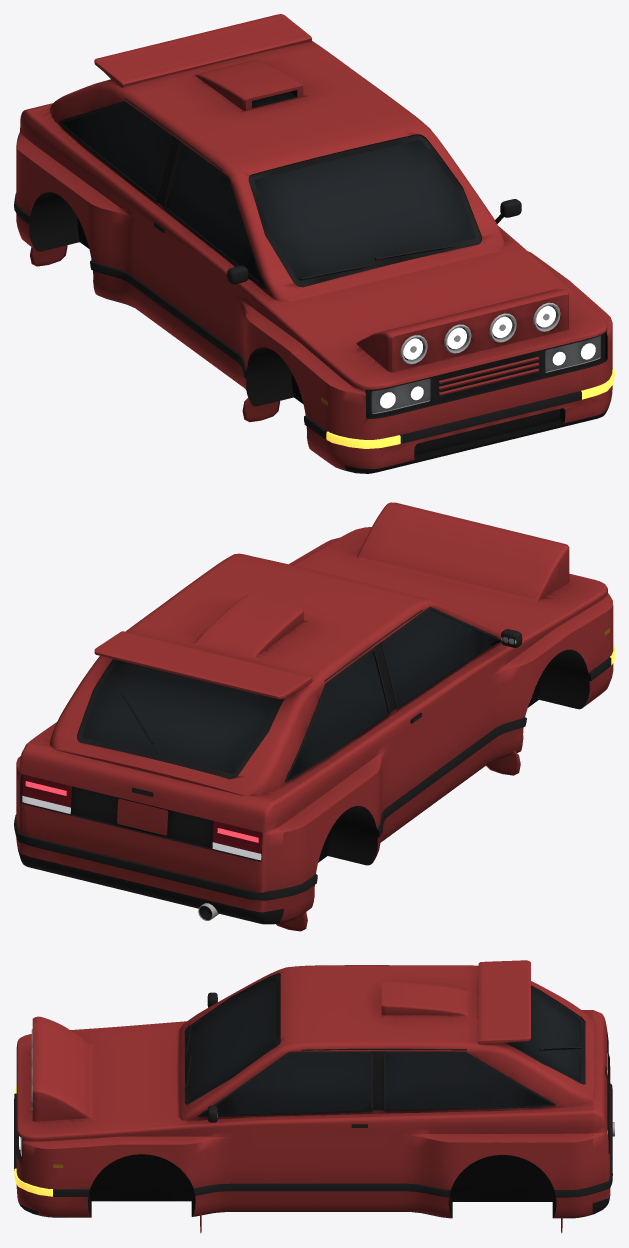
Rendered from sidewinder.m.glb.
3 renders of one model, top to bottom at view 1: azimuth 30°, elevation 25°; view 2: azimuth 150°, elevation 25°; view 3: azimuth 270°, elevation 25°, orthographic. The views are drawn at different scales.
Parts seen in each view (by area): view 1: paint_lodm, window_lodm, trim_lodm, head_lodm, lens_lodm, grille_lodm, chrome_lodm, amber_lodm; view 2: paint_lodm, window_lodm, trim_lodm, tail_lodm, reverse_lodm; view 3: paint_lodm, window_lodm, trim_lodm.
Boxes of the visible parts, left/top/right/bottom form: paint_lodm: left=16, top=14, right=612, bottom=470; window_lodm: left=63, top=104, right=481, bottom=284; trim_lodm: left=14, top=90, right=609, bottom=473; head_lodm: left=371, top=305, right=600, bottom=413; lens_lodm: left=380, top=305, right=595, bottom=408; grille_lodm: left=414, top=409, right=560, bottom=455; chrome_lodm: left=372, top=302, right=600, bottom=413; amber_lodm: left=326, top=366, right=614, bottom=448; paint_lodm: left=16, top=502, right=613, bottom=931; window_lodm: left=77, top=609, right=496, bottom=778; trim_lodm: left=14, top=606, right=611, bottom=924; tail_lodm: left=22, top=774, right=262, bottom=853; reverse_lodm: left=22, top=795, right=261, bottom=860; paint_lodm: left=16, top=960, right=610, bottom=1233; window_lodm: left=185, top=977, right=580, bottom=1115; trim_lodm: left=14, top=973, right=612, bottom=1218.
Size of what is drawn, in the model's own units: 1.93 by 1.4 by 4.06.
